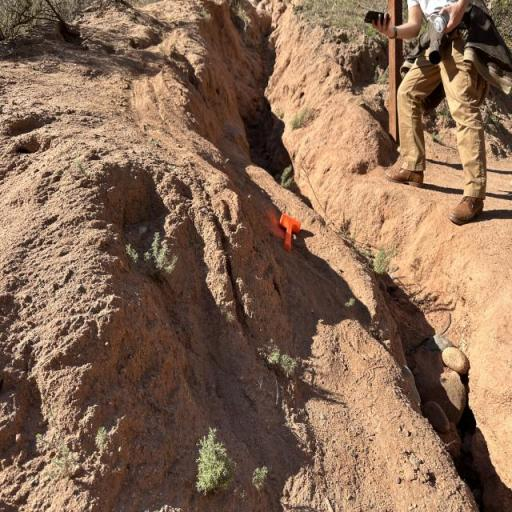mallet: (279, 213, 301, 252)
